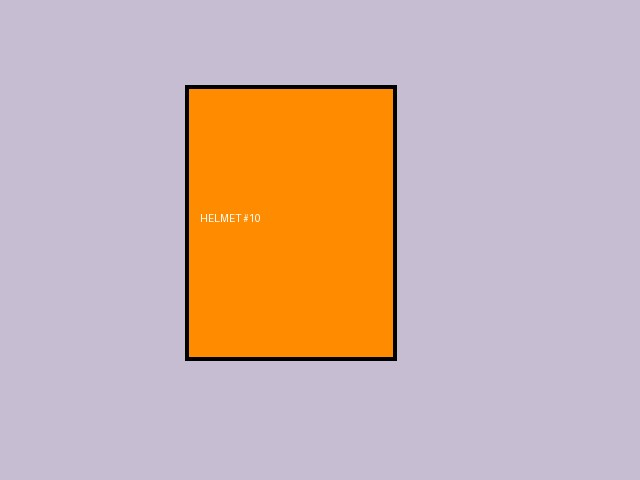helmet: (185, 85, 396, 360)
